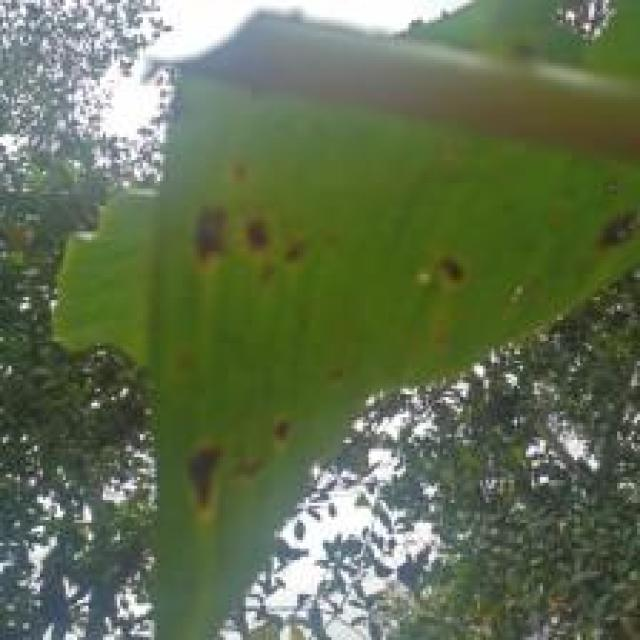Downey_mildrew: (188, 141, 350, 328), (162, 398, 313, 522), (540, 187, 640, 275), (423, 233, 508, 325)
